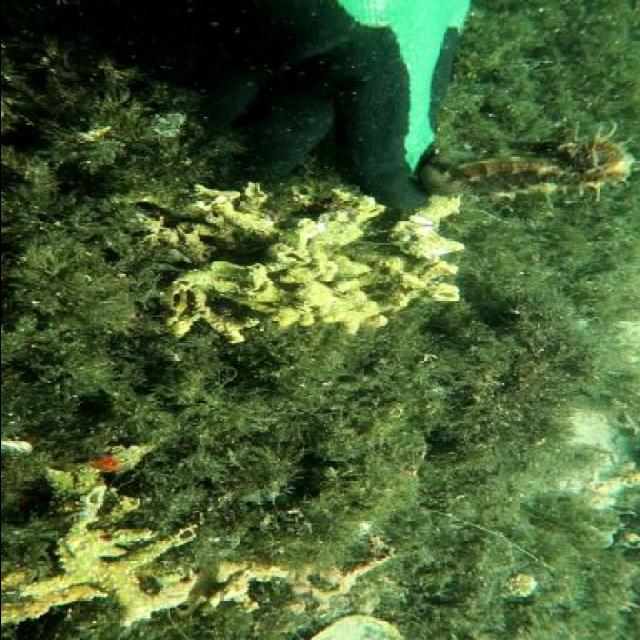Guttu: (502, 127, 634, 192)
